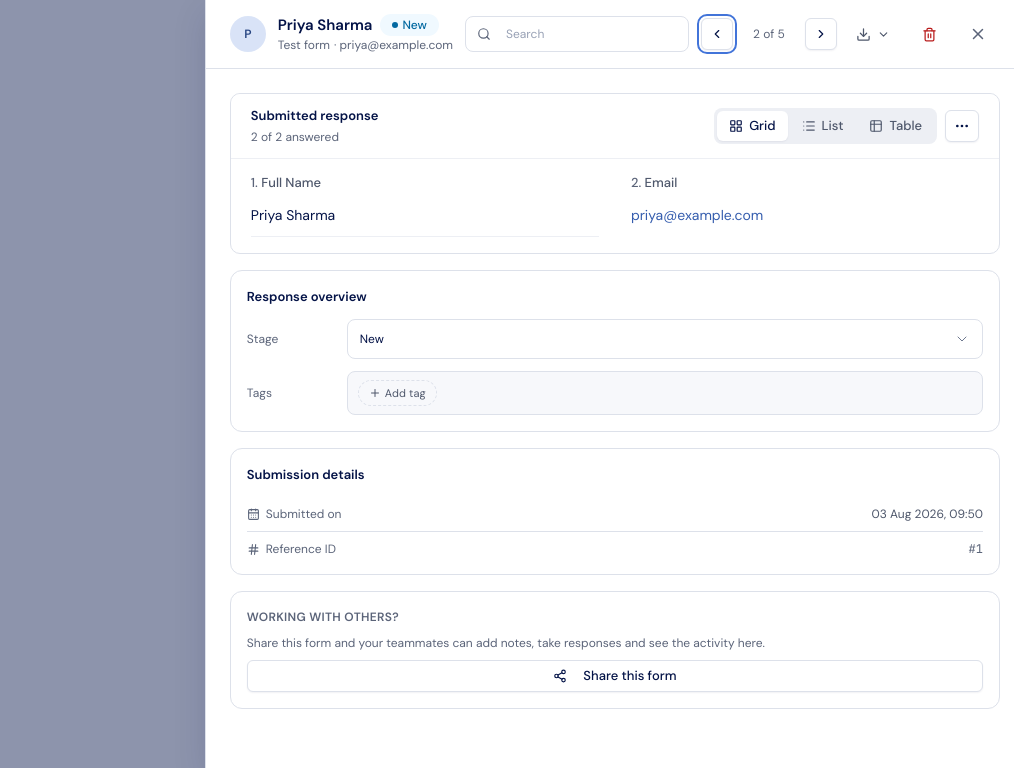
Test: ResponseDrawer layouts, full-screen page and keyboard › j and k move between responses › does nothing while typing in a field
Check: the heading "Submitted response" is shown, box [251,106,378,126]
Click the search field named "Search in response" at [577, 34], box [465,16,689,52]
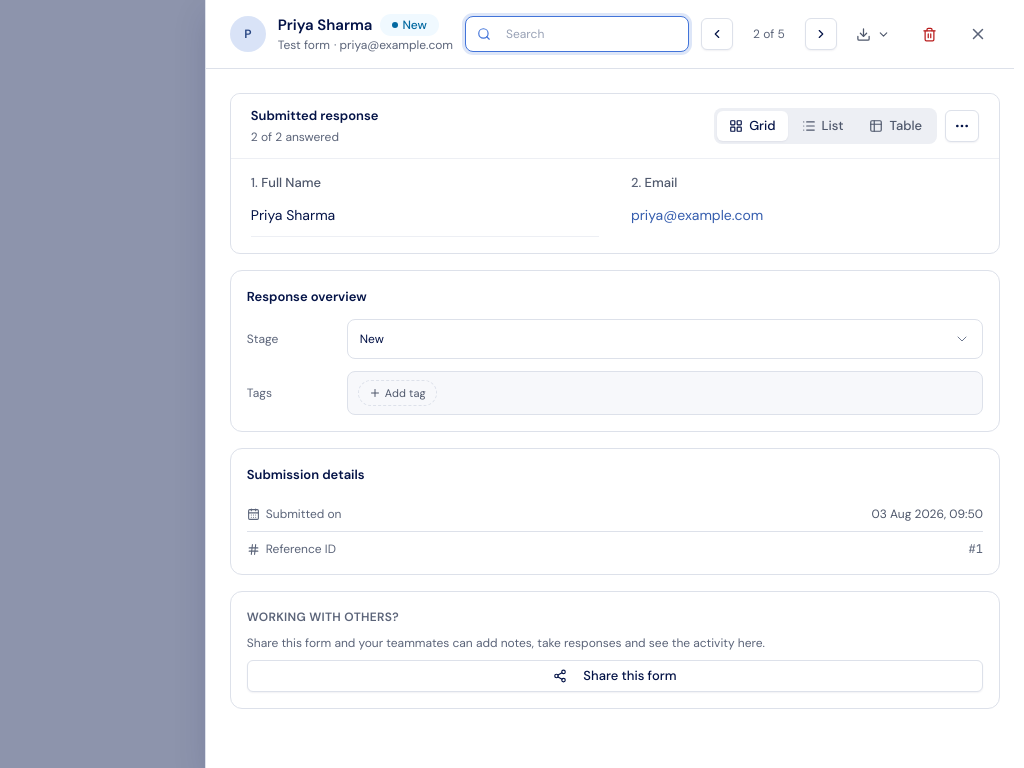
Type keys "jk"
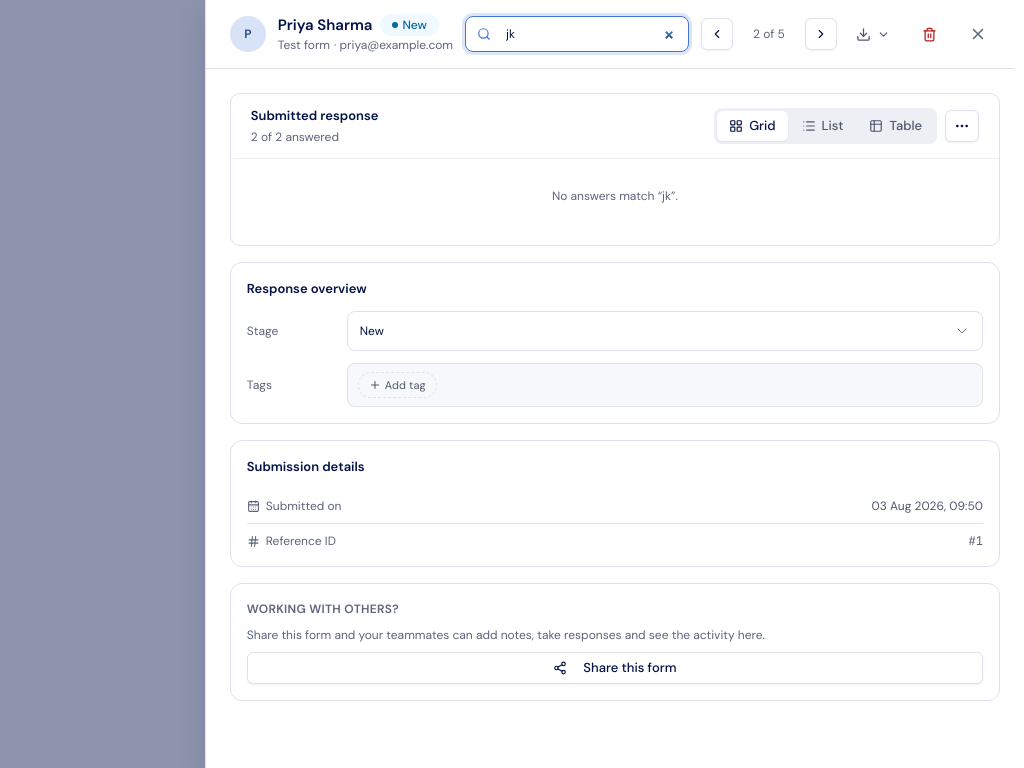
Check: the search field named "Search in response" holds "jk", box [465,16,689,52]
